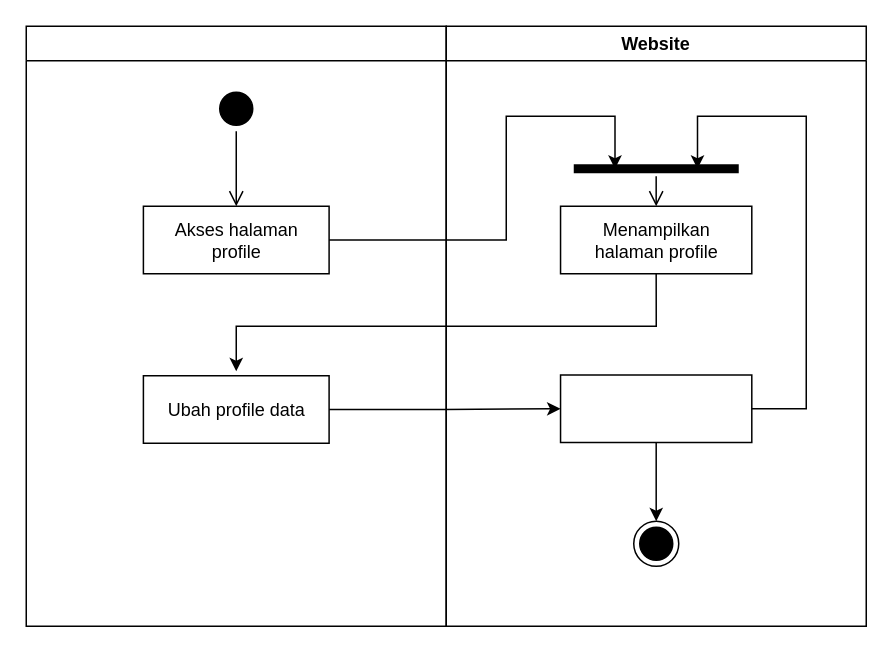
Image size: 893x653. Some labels were removed from this diagram. The shapes that lost their labels are listed below. From the top down, each one's box as (x1, y1, x2, y2) in pixels, then its label:
(25, 25, 446, 626): Admin
(559, 374, 752, 442): Menyimpan perubahan
